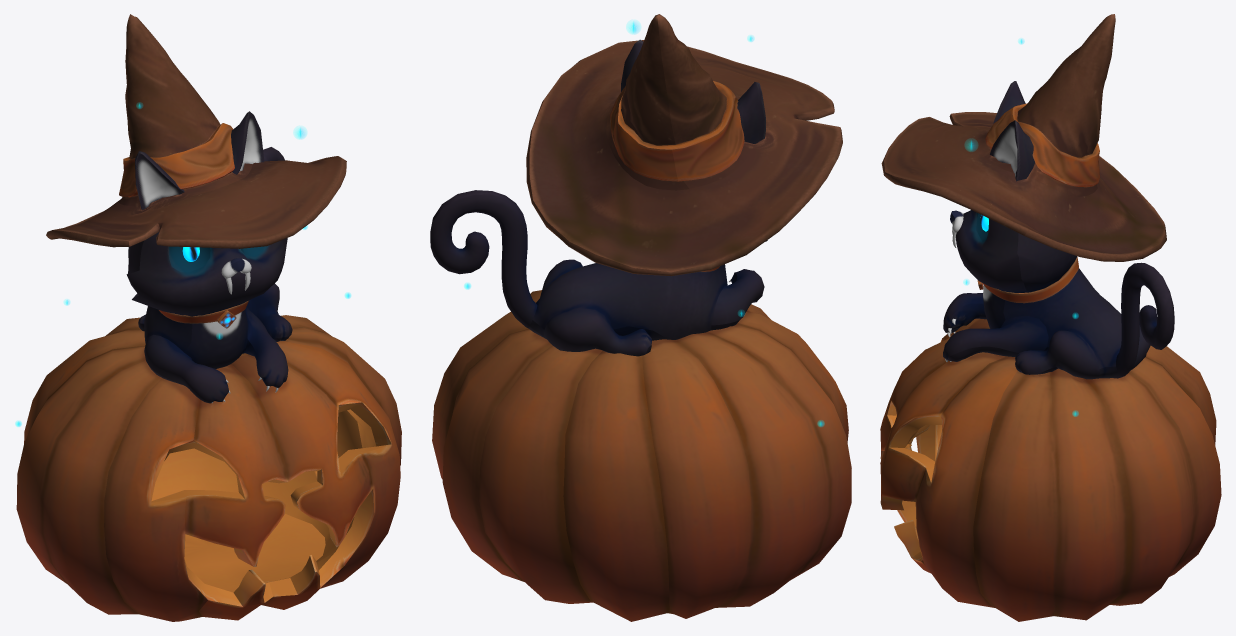
The model's file is the_halloween_cat.glb.
The picture shows the model from 3 angles, left to right: view 1: azimuth 30°, elevation 25°; view 2: azimuth 150°, elevation 25°; view 3: azimuth 270°, elevation 25°; orthographic projection. The views are drawn at different scales.
Parts seen in each view (by area): view 1: Object_2; view 2: Object_2; view 3: Object_2.
Boxes of the visible parts, x1=… form: Object_2: x1=16, y1=14, x2=401, y2=621; Object_2: x1=430, y1=14, x2=851, y2=621; Object_2: x1=880, y1=14, x2=1221, y2=621.
Bounding box in the file's own units: 297 × 447 × 255.
2 materials, 2 textured.
